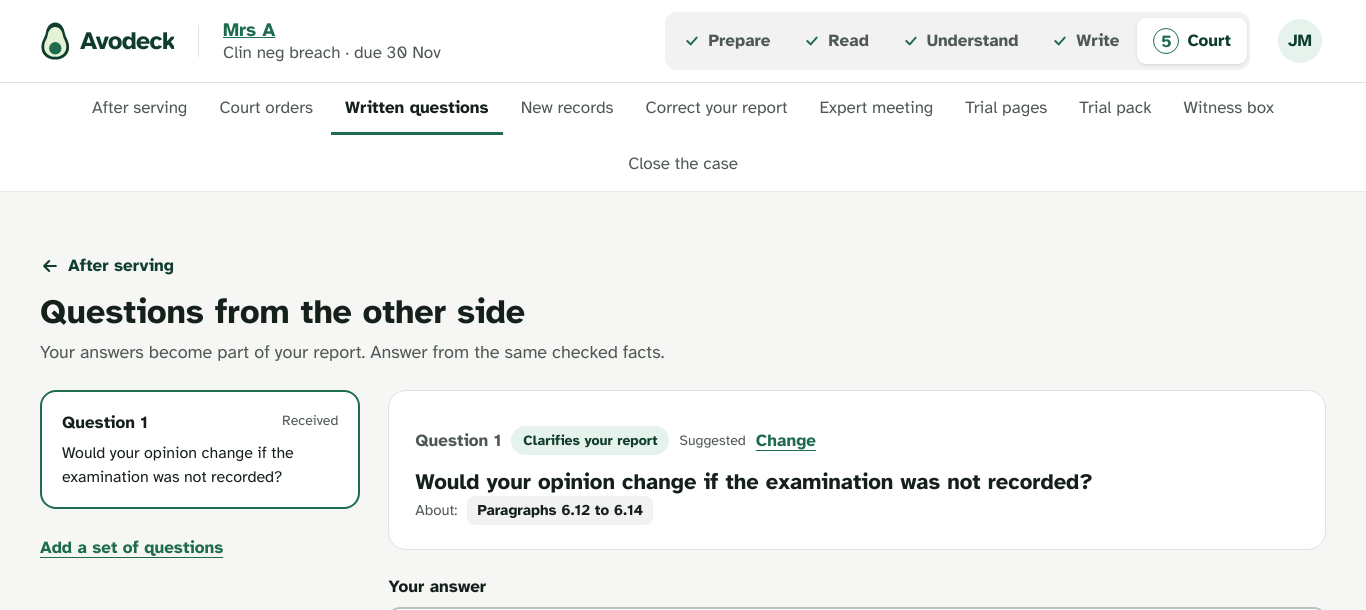
changing the classification disables the choice while it saves, and sends once
Click the button "Change" at (786, 441), box [756, 415, 816, 467]
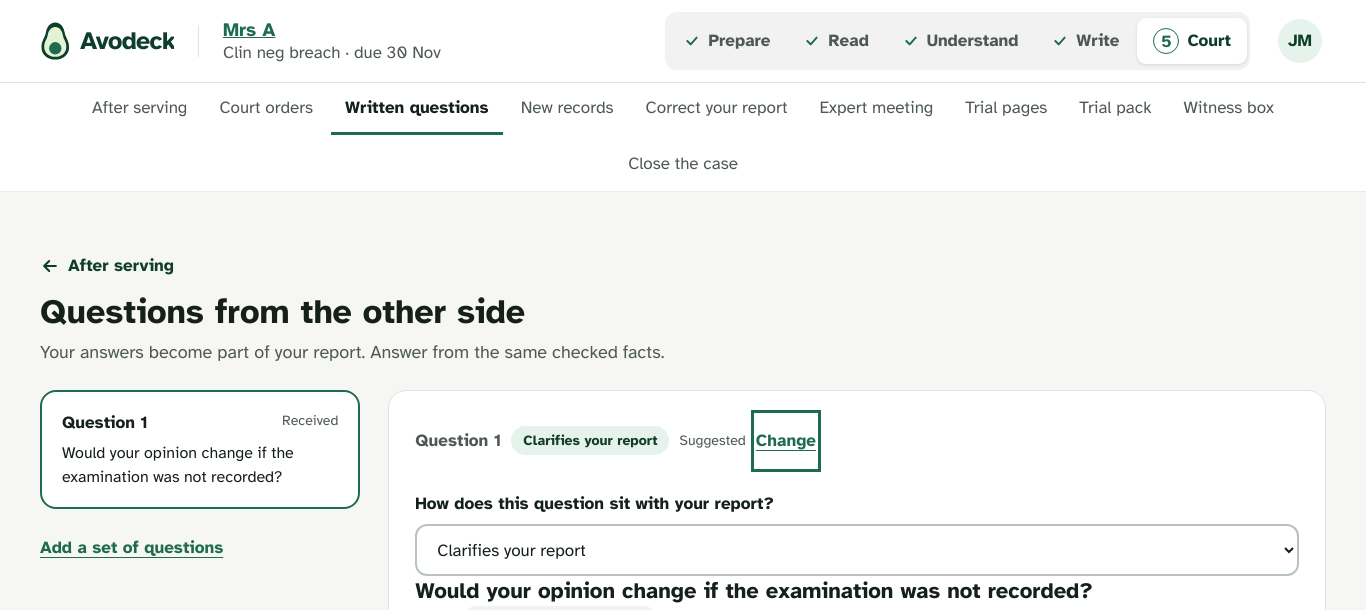
Select "May go beyond your report" in the dropdown labelled "How does this question sit with your report?" at (857, 550), box [415, 524, 1299, 576]
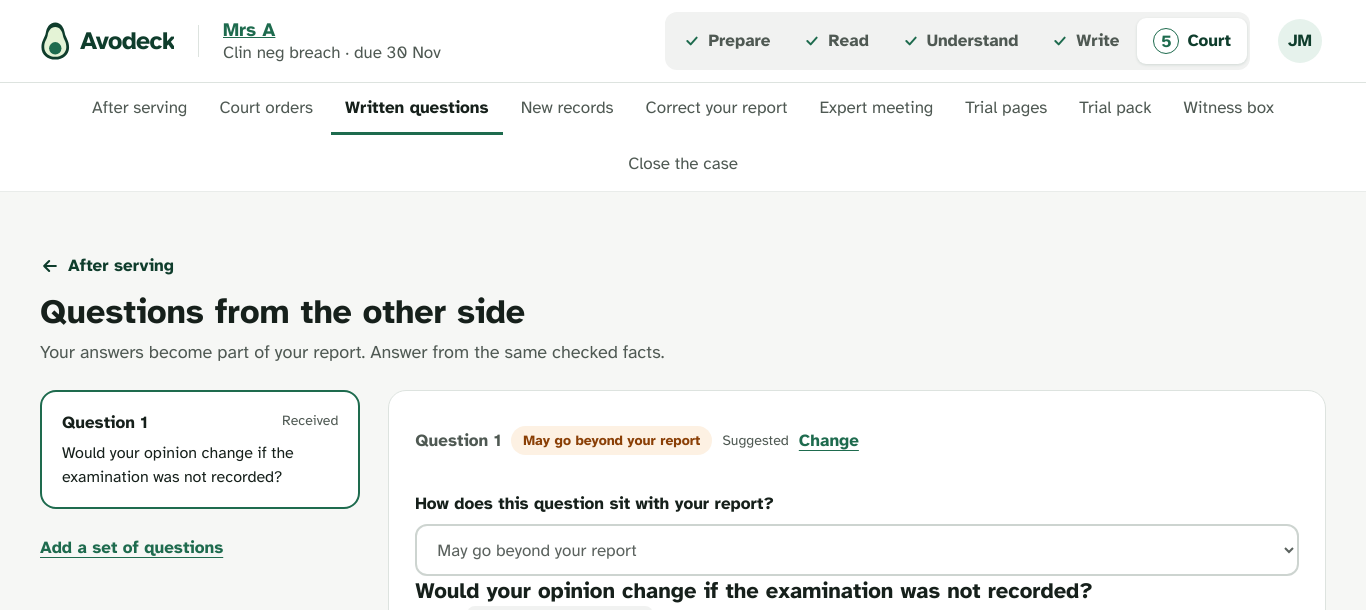
Expected: the dropdown labelled "How does this question sit with your report?" is disabled, [415, 524, 1299, 576]
